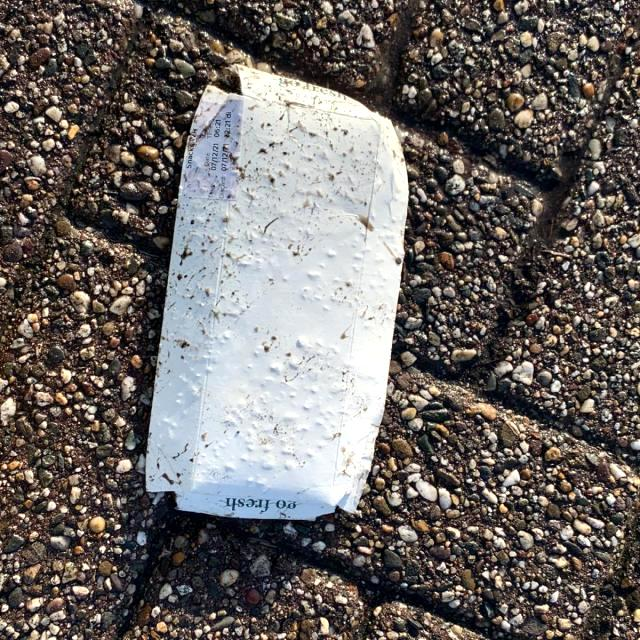Paper: (140, 61, 412, 526)
